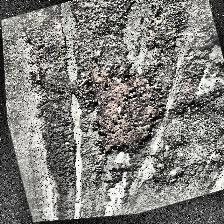pothole: (61, 48, 177, 170)
